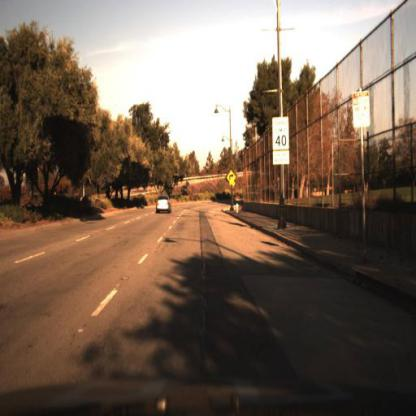car: (153, 190, 173, 216)
